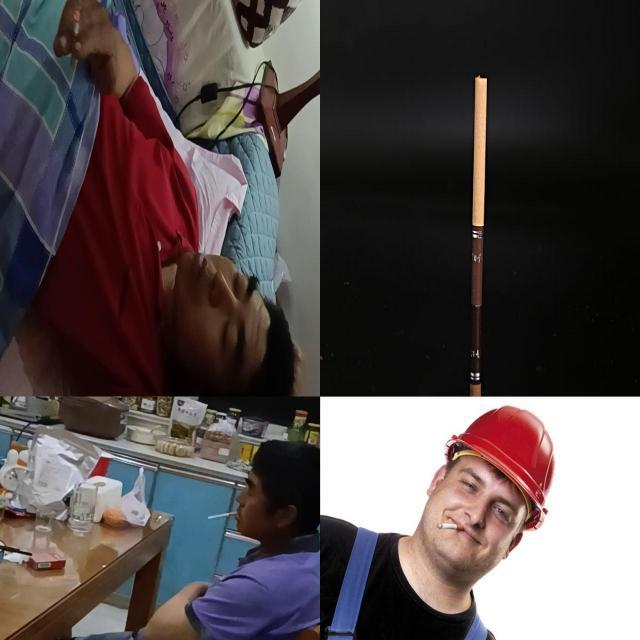smoke: (468, 69, 492, 307), (70, 10, 80, 70), (434, 518, 464, 534), (208, 512, 238, 520)
